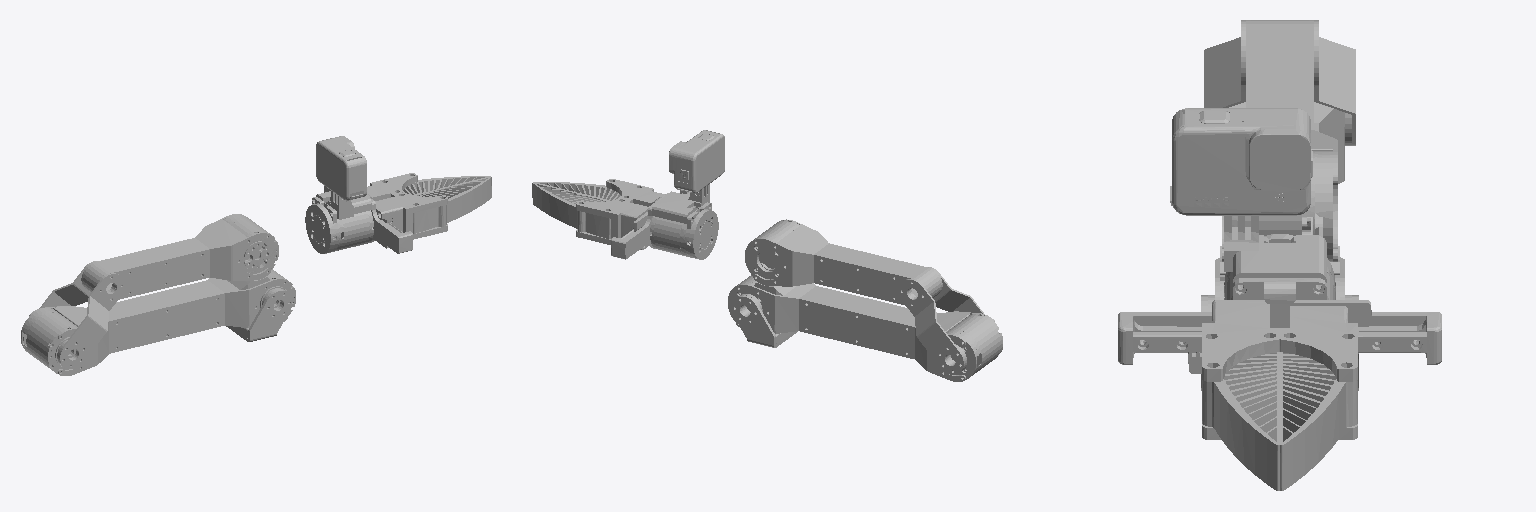
URDF robot description (YAM_umi):
<?xml version="1.0" encoding="utf-8"?>
<!--
  Joint limits:
    - joint1: -150° to 179°
    - joint2: 0° to 209°
    - joint3: 0 to 179°
    - joint4: ±90°
    - joint5: ±90°
    - joint6: ±120°
  
  Joint motors:
    - joint{1,2,3}: DAMIAO Motor DM4340P, 52.5 rpm, 5.49 rad/s
    - joint{4,5,6}: DAMIAO Motor DM4310, 200 rpm, 20.94 rad/s
    - gripper DAMIAO Motor DM4310, 0.00875m spur gear radius, 0.183225 m/s, 114N
 -->
<robot
  name="YAM_umi">
  <link
    name="base_link">
    <inertial>
      <origin
        xyz="0.0001285 0.0 0.0368758"
        rpy="0 0 0" />
      <mass
        value="0.46369" />
      <inertia
        ixx="0.00024501"
        ixy="0.00000003"
        ixz=" 0.00000148"
        iyy="0.00000003"
        iyz="0.0"
        izz="0.00024245" />
    </inertial>
    <visual>
      <origin
        xyz="0 0 0"
        rpy="0 0 0" />
      <geometry>
        <mesh
          filename="./meshes/YAM/base_link_visual.stl" />
      </geometry>
      <material
        name="">
        <color
          rgba="0.75294 0.75294 0.75294 1" />
      </material>
    </visual>
    <collision>
      <origin
        xyz="0 0 0"
        rpy="0 0 0" />
      <geometry>
        <mesh
          filename="./meshes/YAM/base_link_collision.stl" />
      </geometry>
    </collision>
  </link>
  <link
    name="link1">
    <inertial>
      <origin
        xyz="0.00454425 -0.00000799 0.01512301"
        rpy="0 0 0" />
      <mass
        value="0.0789" />
      <inertia
        ixx="0.00009933"
        ixy="0.0"
        ixz="-0.00000885"
        iyy="0.00003301"
        iyz="0.0"
        izz="0.00009451" />
    </inertial>
    <visual>
      <origin
        xyz="0 0 0"
        rpy="0 0 0" />
      <geometry>
        <mesh
          filename="./meshes/YAM/link1_visual.stl" />
      </geometry>
      <material
        name="">
        <color
          rgba="0.75294 0.75294 0.75294 1" />
      </material>
    </visual>
    <collision>
      <origin
        xyz="0 0 0"
        rpy="0 0 0" />
      <geometry>
        <mesh
          filename="./meshes/YAM/link1_collision.stl" />
      </geometry>
    </collision>
  </link>
  <joint
    name="joint1"
    type="revolute">
    <origin
      xyz="0 0 0.0695"
      rpy="0 0 0" />
    <parent
      link="base_link" />
    <child
      link="link1" />
    <axis
      xyz="0 0 1" />
    <limit
      lower="-3.141592653589793"
      upper="3.141592653589793"
      effort="30"
      velocity="10" />
  </joint>
  <link
    name="link2">
    <inertial>
      <origin
        xyz="-0.12933992 -0.00320508 0.00021895"
        rpy="0 0 0" />
      <mass
        value="1.0796" />
      <inertia
        ixx="0.00056076"
        ixy="-0.00004623"
        ixz="-0.00001654"
        iyy="0.01591761"
        iyz="-0.00000238"
        izz="0.01602363" />
    </inertial>
    <visual>
      <origin
        xyz="0 0 0"
        rpy="0 0 0" />
      <geometry>
        <mesh
          filename="./meshes/YAM/link2_visual.stl" />
      </geometry>
      <material
        name="">
        <color
          rgba="0.75294 0.75294 0.75294 1" />
      </material>
    </visual>
    <collision>
      <origin
        xyz="0 0 0"
        rpy="0 0 0" />
      <geometry>
        <mesh
          filename="./meshes/YAM/link2_collision.stl" />
      </geometry>
    </collision>
  </link>
  <joint
    name="joint2"
    type="revolute">
    <origin
      xyz="0.02 0 0.0385"
      rpy="0 0 0" />
    <parent
      link="link1" />
    <child
      link="link2" />
    <axis
      xyz="0 1 0" />
    <limit
      lower="0"
      upper="3.6651914291880923"
      effort="30"
      velocity="10" />
  </joint>
  <link
    name="link3">
    <inertial>
      <origin
        xyz="0.18044633 -0.00255206 0.05466436"
        rpy="0 0 0" />
      <mass
        value="0.5829" />
      <inertia
        ixx="0.00043953"
        ixy="0.00016484"
        ixz="-0.00053416"
        iyy="0.00459048"
        iyz="0.00002459"
        izz="0.00455211" />
    </inertial>
    <visual>
      <origin
        xyz="0 0 0"
        rpy="0 0 0" />
      <geometry>
        <mesh
          filename="./meshes/YAM/link3_visual.stl" />
      </geometry>
      <material
        name="">
        <color
          rgba="0.75294 0.75294 0.75294 1" />
      </material>
    </visual>
    <collision>
      <origin xyz="0.13 0.0 0.058" rpy="0.0 1.5708 0.0" />
      <geometry>
        <cylinder radius="0.02" length="0.16" />
      </geometry>
    </collision>
  </link>
  <joint
    name="joint3"
    type="revolute">
    <origin
      xyz="-0.264 0 0"
      rpy="0 0 0" />
    <parent
      link="link2" />
    <child
      link="link3" />
    <axis
      xyz="0 -1 0" />
    <limit
      lower="0"
      upper="3.141592653589793"
      effort="30"
      velocity="10" />
  </joint>
  <link
    name="link4">
    <inertial>
      <origin
        xyz="0.05422718 0.0007573 0.05550444"
        rpy="0 0 0" />
      <mass
        value="0.3896" />
      <inertia
        ixx="0.00031996"
        ixy="0.00001339"
        ixz="-0.00013553"
        iyy="0.00039155"
        iyz="0.00001273"
        izz="0.00033280" />
    </inertial>
    <visual>
      <origin
        xyz="0 0 0"
        rpy="0 0 0" />
      <geometry>
        <mesh
          filename="./meshes/YAM/link4_visual.stl" />
      </geometry>
      <material
        name="">
        <color
          rgba="0.75294 0.75294 0.75294 1" />
      </material>
    </visual>
    <collision>
      <origin xyz="0.0620 0.0007 0.0650" rpy="0.0000 0.0000 0.0000" />
      <geometry>
        <cylinder radius="0.0300" length="0.0460" />
      </geometry>
    </collision>
  </link>
  <joint
    name="joint4"
    type="revolute">
    <origin
      xyz="0.244 0 0.06"
      rpy="0 0 0" />
    <parent
      link="link3" />
    <child
      link="link4" />
    <axis
      xyz="0 -1 0" />
    <limit
      lower="-1.5707963267948966"
      upper="1.570796326794896"
      effort="30"
      velocity="10" />
  </joint>
  <link
    name="link5">
    <inertial>
      <origin
        xyz="0.00654054 0.00011122 -0.04050692"
        rpy="0 0 0" />
      <mass
        value="0.3686" />
      <inertia
        ixx="0.00017506"
        ixy="0.00000068"
        ixz="0.00000629"
        iyy="0.00018162"
        iyz="0.00000014"
        izz="0.00014814" />
    </inertial>
    <visual>
      <origin
        xyz="0 0 0"
        rpy="0 0 0" />
      <geometry>
        <mesh
          filename="./meshes/YAM/link5_visual.stl" />
      </geometry>
      <material
        name="">
        <color
          rgba="0.75294 0.75294 0.75294 1" />
      </material>
    </visual>
    <collision>
      <origin xyz="0.0052 0.0000 -0.0410" rpy="0.0000 1.5708 0.0000" />
      <geometry>
        <cylinder radius="0.0300" length="0.0450" />
      </geometry>
    </collision>
  </link>
  <joint
    name="joint5"
    type="revolute">
    <origin
      xyz="0.062 0 0.0425"
      rpy="0 0 0" />
    <parent
      link="link4" />
    <child
      link="link5" />
    <axis
      xyz="0 0 -1" />
    <limit
      lower="-1.5707963267948966"
      upper="1.5707963267948966"
      effort="30"
      velocity="10" />
  </joint>
  <link
    name="link6">
    <inertial>
      <origin
        xyz="0.05171042 -0.0047113 0.02070167"
        rpy="0 0 0" />
      <mass
        value="0.8834" />
      <inertia
        ixx="0.00165990"
        ixy="-0.00013386"
        ixz="0.00056002"
        iyy="0.00259619"
        iyz="0.00023307"
        izz="0.00197985" />
    </inertial>
    <visual>
      <origin
        xyz="0 0 0"
        rpy="0 0 0" />
      <geometry>
        <mesh
          filename="./meshes/YAM/link6_visual.stl" />
      </geometry>
      <material
        name="">
        <color
          rgba="0.75294 0.75294 0.75294 1" />
      </material>
    </visual>
    <collision>
      <origin
        xyz="0 0 0"
        rpy="0 0 0" />
      <geometry>
        <mesh
          filename="./meshes/YAM/link6_collision.stl" />
      </geometry>
    </collision>
  </link>
  <joint
    name="joint6"
    type="revolute">
    <origin
      xyz="0.032 0 -0.0425"
      rpy="0 0 0" />
    <parent
      link="link5" />
    <child
      link="link6" />
    <axis
      xyz="1 0 0" />
    <limit
      lower="-1.5707963267948966"
      upper="1.5707963267948966"
      effort="30"
      velocity="10" />
  </joint>

  <link name="eef_link">
    <inertial>
      <mass value="0.0" />
      <origin xyz="0.0 0.0 0.0" rpy="0 0 0" />
      <inertia ixx="0.0" ixy="0.0" ixz="0.0" iyy="0.0" iyz="0.0" izz="0.0" />
    </inertial>
  </link>

  <joint name="gripper_fixed_joint" type="fixed">
    <origin xyz="0.22 0.0 0.0" rpy="0 0 0" />
    <parent link="link6" />
    <child link="eef_link" />
  </joint>
</robot>

--- What the picture shows (computed from the rendered views, not written in the file) ---
3 views of the same robot in one strip: view 1: azimuth 30°, elevation 25°; view 2: azimuth 150°, elevation 25°; view 3: azimuth 270°, elevation 25° (orthographic).
Robot: YAM_umi — 8 links, 7 joints (6 revolute, 1 fixed); root link base_link; default pose: every joint at zero.
Links seen in each view (by area): view 1: link6, link3, link2, link1; view 2: link6, link3, link2, link1; view 3: link6, link3, link2.
Boxes of the visible links, x1,y1,x2,y2 form: link6: (305,136,491,253); link3: (39,214,278,368); link2: (21,269,295,375); link1: (226,290,291,341); link6: (532,130,724,259); link3: (745,219,983,374); link2: (728,275,1002,381); link1: (732,295,797,347); link6: (1118,108,1441,490); link3: (1204,20,1355,261); link2: (1208,102,1351,311).
Size in the robot's own frame: 0.5897 by 0.166 by 0.2025 metres.
Meshes: 7 distinct files referenced, 4 mesh visuals loaded (4 binary STL); not drawn: 3 (reference not matched to a file when rendering).
